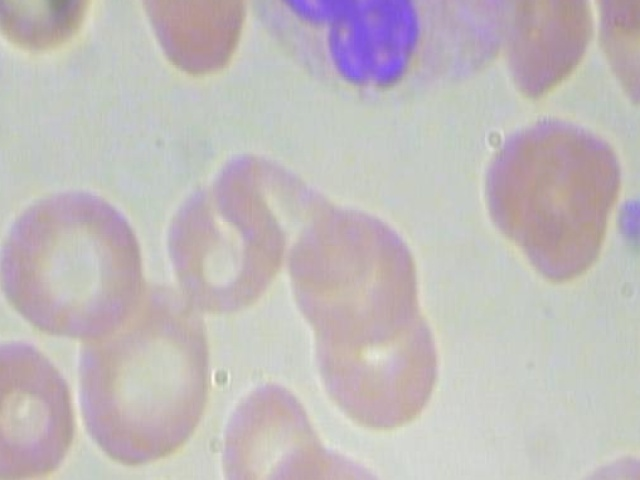Platelets: (607, 193, 640, 269)
RBC: (282, 184, 435, 348), (0, 177, 148, 342), (470, 119, 637, 253), (0, 334, 96, 480), (215, 373, 332, 480), (502, 0, 591, 103), (0, 0, 99, 64), (588, 0, 640, 32), (528, 379, 530, 381)
WBC: (220, 0, 527, 115)
